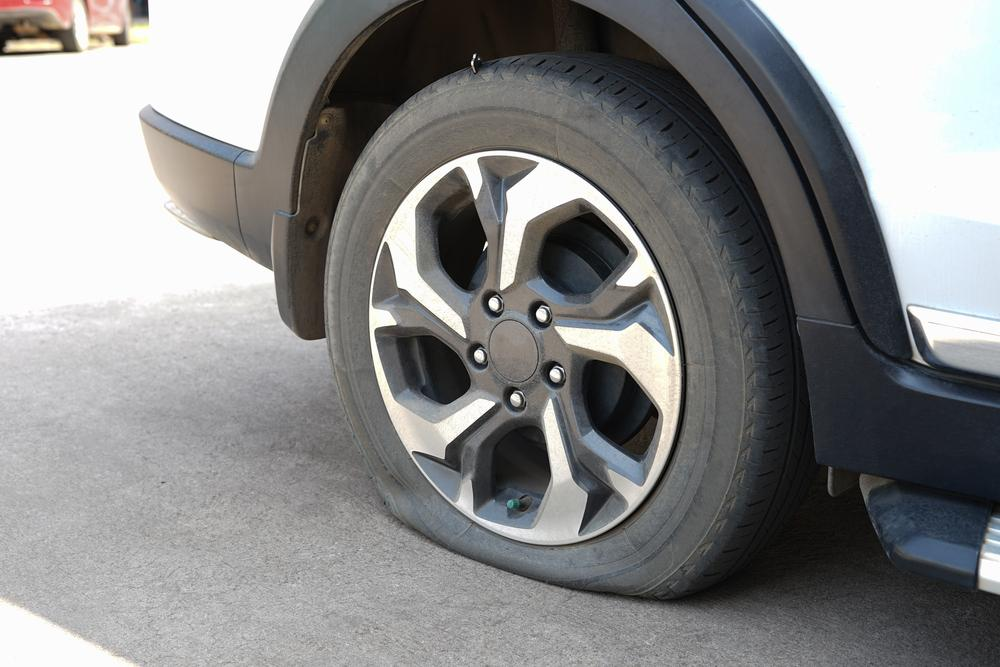tire flat: (325, 51, 810, 604)
